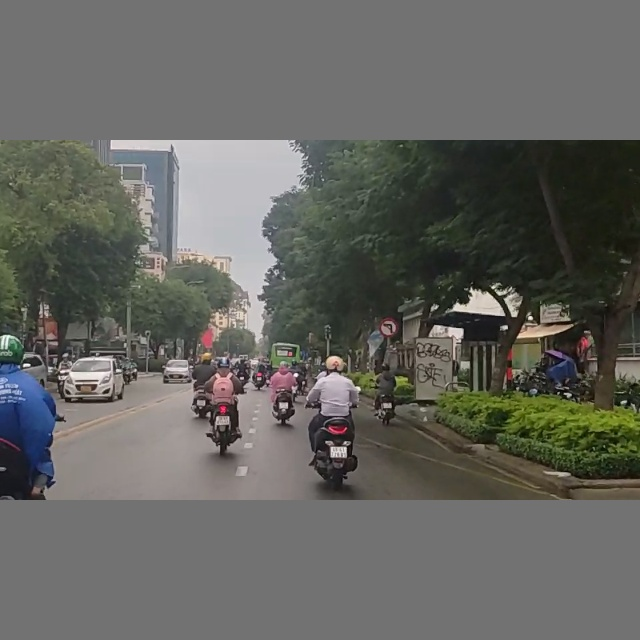P.123a: (379, 317, 399, 337)
